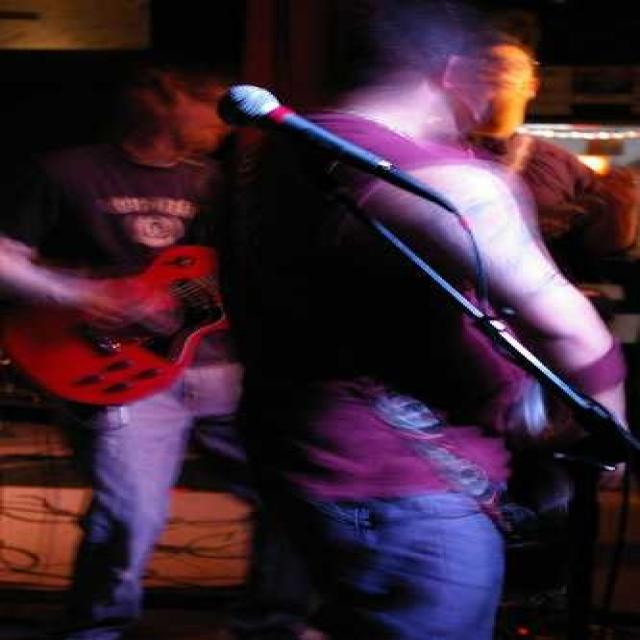microphone: (203, 82, 422, 200)
